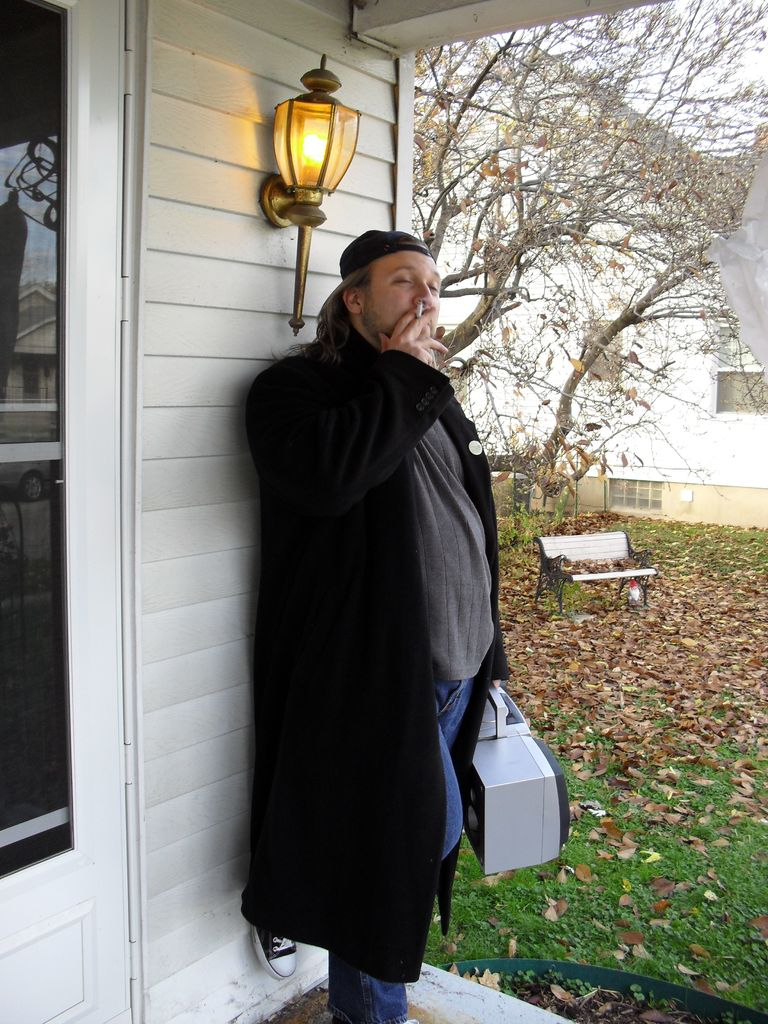Tree: (385, 0, 767, 525)
